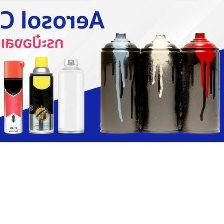aerosol_cans: (135, 30, 183, 135), (175, 29, 222, 135), (97, 30, 141, 135), (55, 56, 87, 135), (26, 54, 56, 135), (0, 57, 26, 135)
